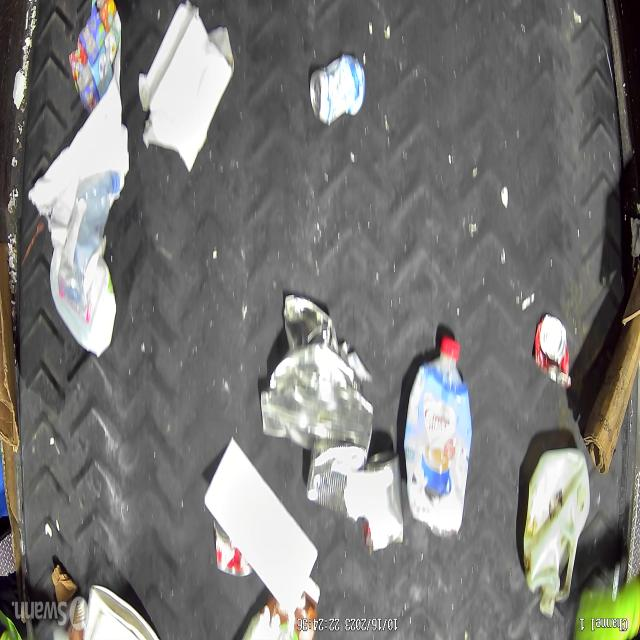can: (306, 442, 366, 522), (309, 53, 366, 124), (364, 451, 403, 552), (533, 312, 571, 391), (214, 520, 253, 576)
milk_jug: (523, 448, 590, 619), (50, 246, 116, 358)
non_white_jug: (403, 338, 472, 544)
plastic_bottle: (58, 171, 120, 314)
